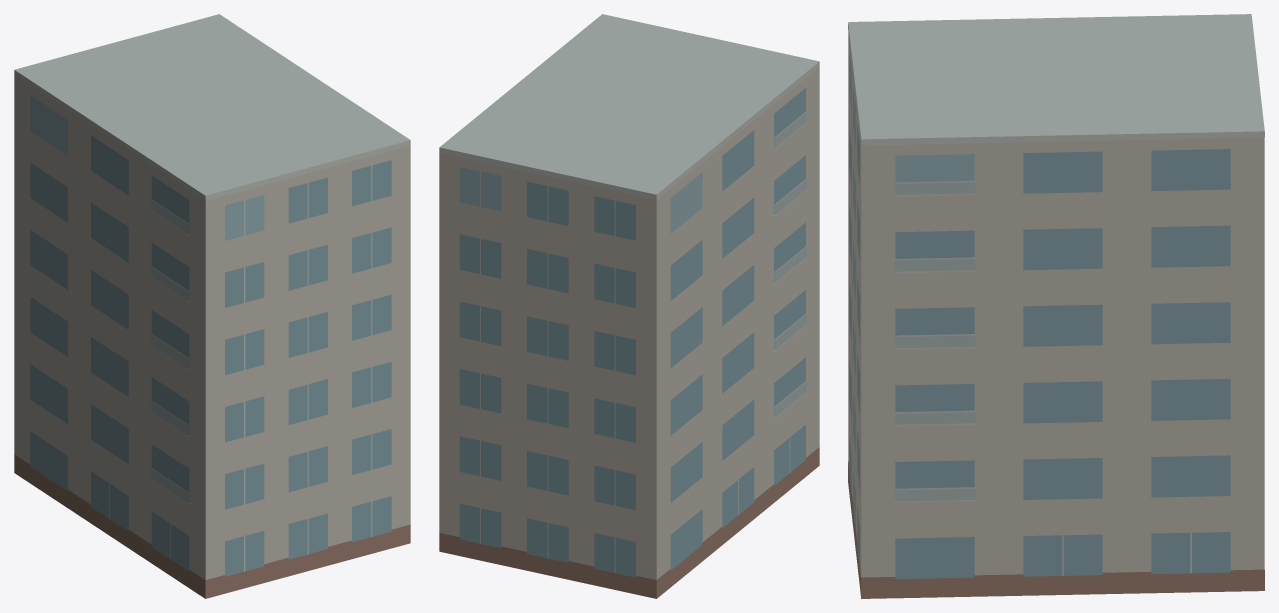
File: survey-upis-32706881.glb
3 renders of one model, left to right at view 1: azimuth 30°, elevation 25°; view 2: azimuth 150°, elevation 25°; view 3: azimuth 270°, elevation 25°, orthographic. The views are drawn at different scales.
Parts seen in each view (by area): view 1: survey-upis-32706881.tmp; view 2: survey-upis-32706881.tmp; view 3: survey-upis-32706881.tmp.
Part boxes in pixels (x1,y1,x2,y2): survey-upis-32706881.tmp: (14, 14, 410, 598); survey-upis-32706881.tmp: (439, 14, 819, 598); survey-upis-32706881.tmp: (848, 14, 1264, 598).
Size of the model in its own units: 10.71 by 18.3 by 15.05.
